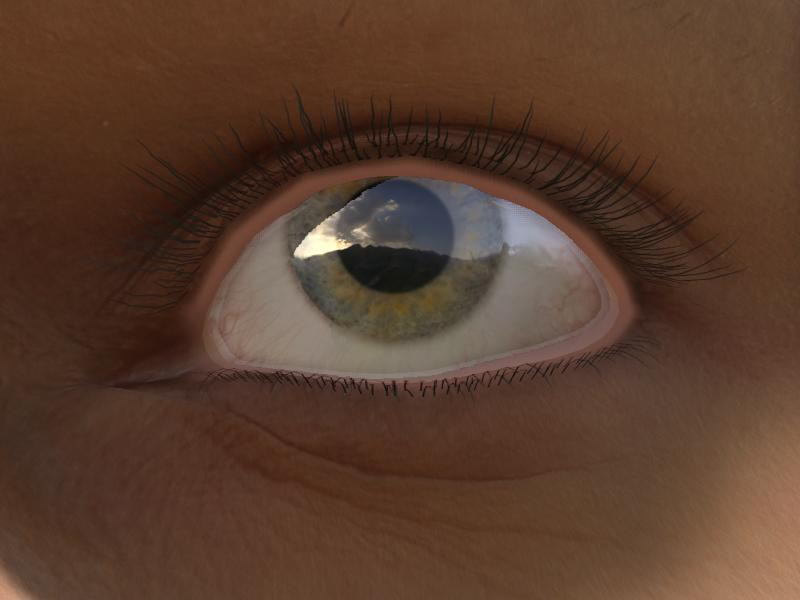eye: (287, 177, 507, 341)
